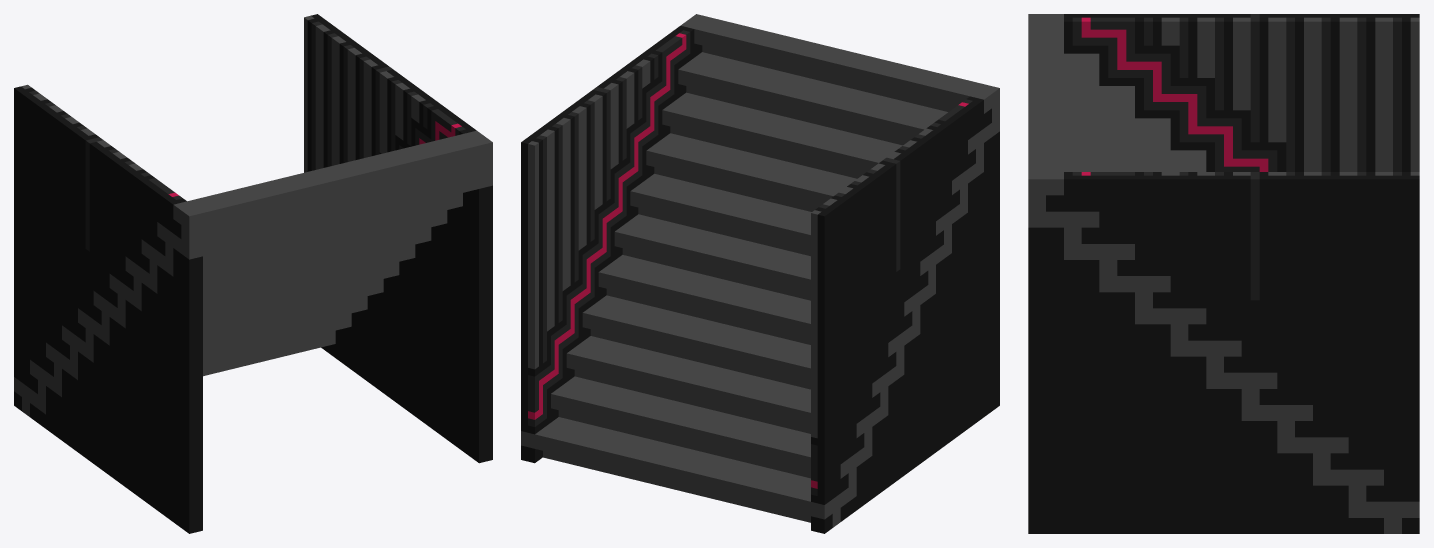
The model's file is mesh_stairway_1.obj.
The picture shows the model from 3 angles, left to right: view 1: azimuth 30°, elevation 25°; view 2: azimuth 150°, elevation 25°; view 3: azimuth 270°, elevation 25°; orthographic projection. The views are drawn at different scales.
Size of the model in its own units: 4.4 by 4.4 by 4.4.
Materials: 1 (1 with a texture image).
